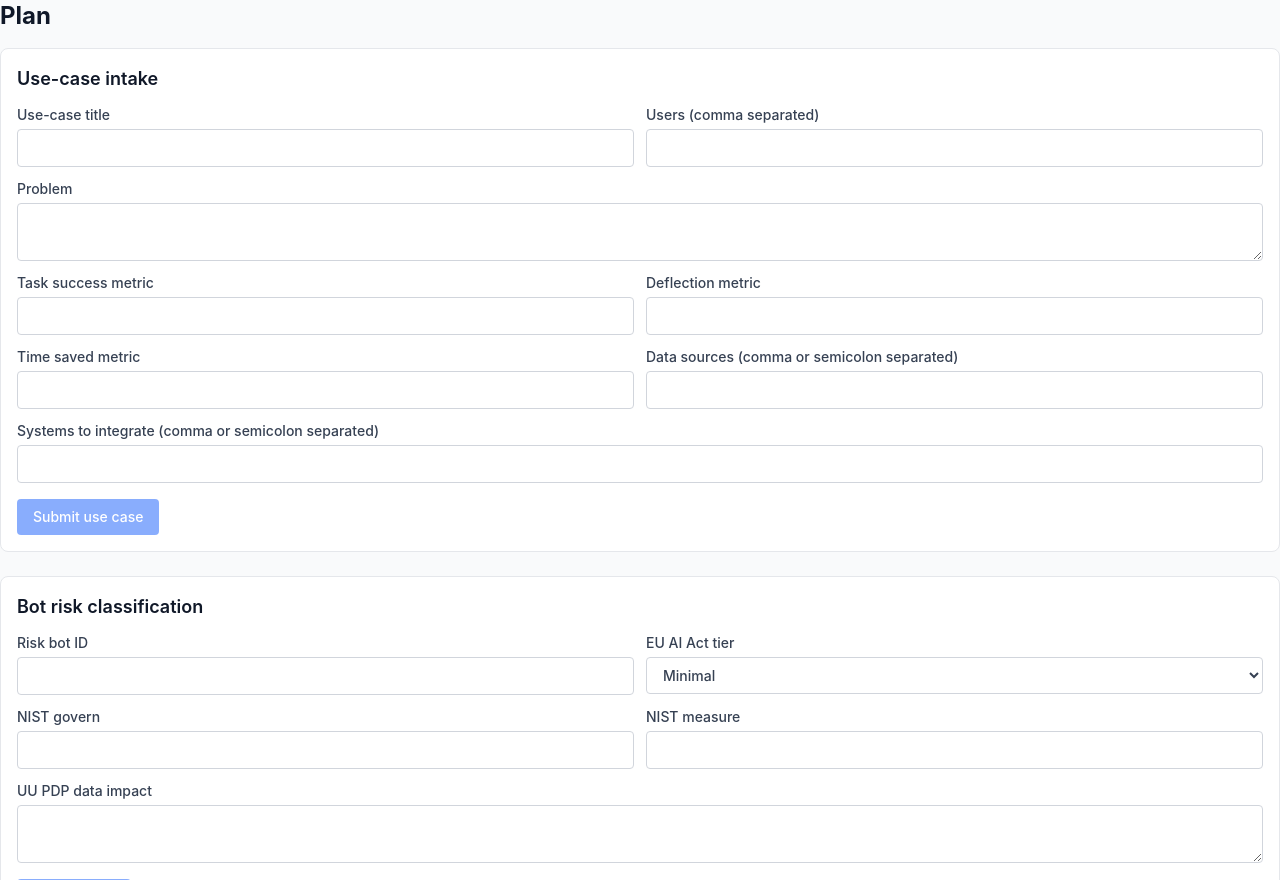
Test: PlanScreen › submits a bot risk classification with safe governance fields
In the field labelled "Risk bot ID": (326, 676) [17,657,634,695], type "11111111-1111-1111-1111-111111111111"
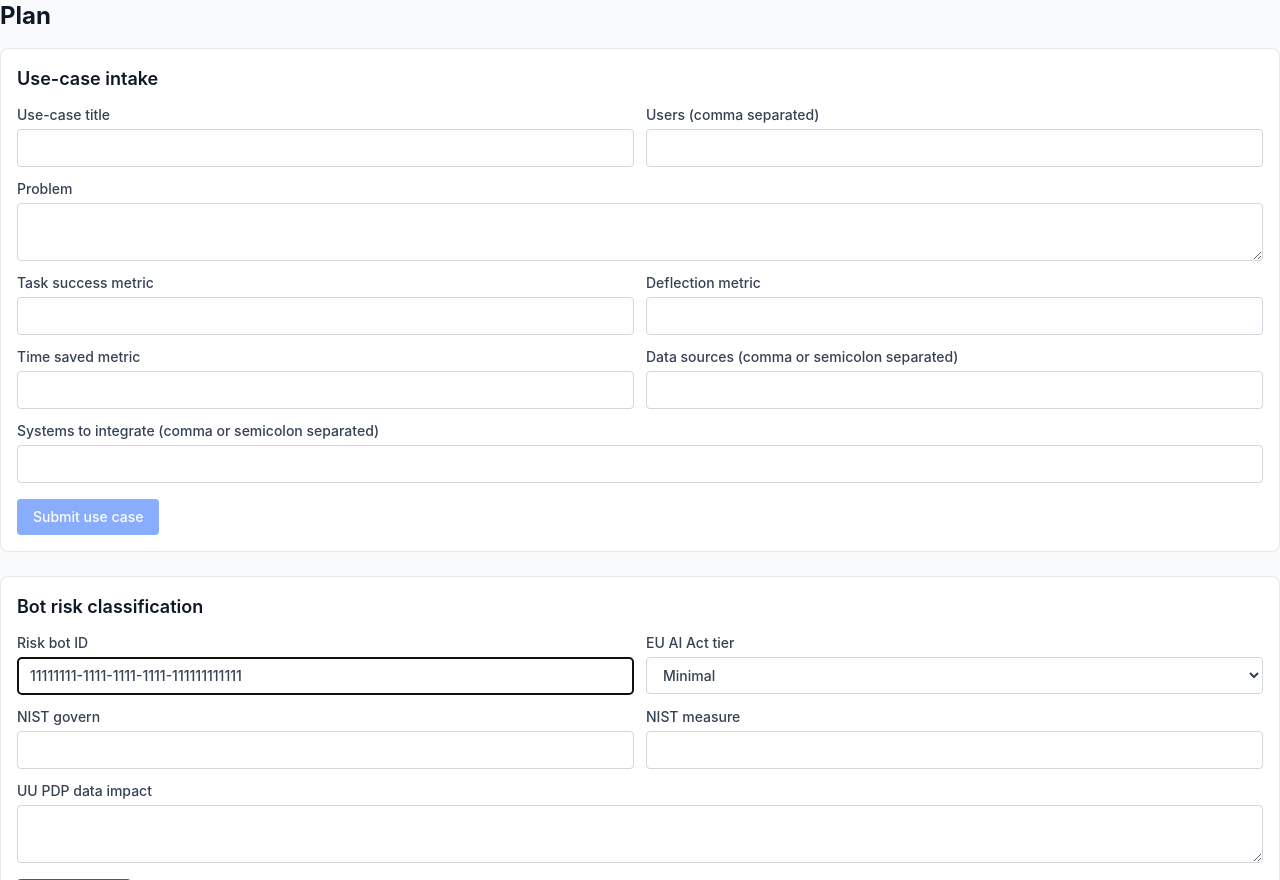
Select "High" in the dropdown labelled "EU AI Act tier": (954, 676) [646,657,1263,694]
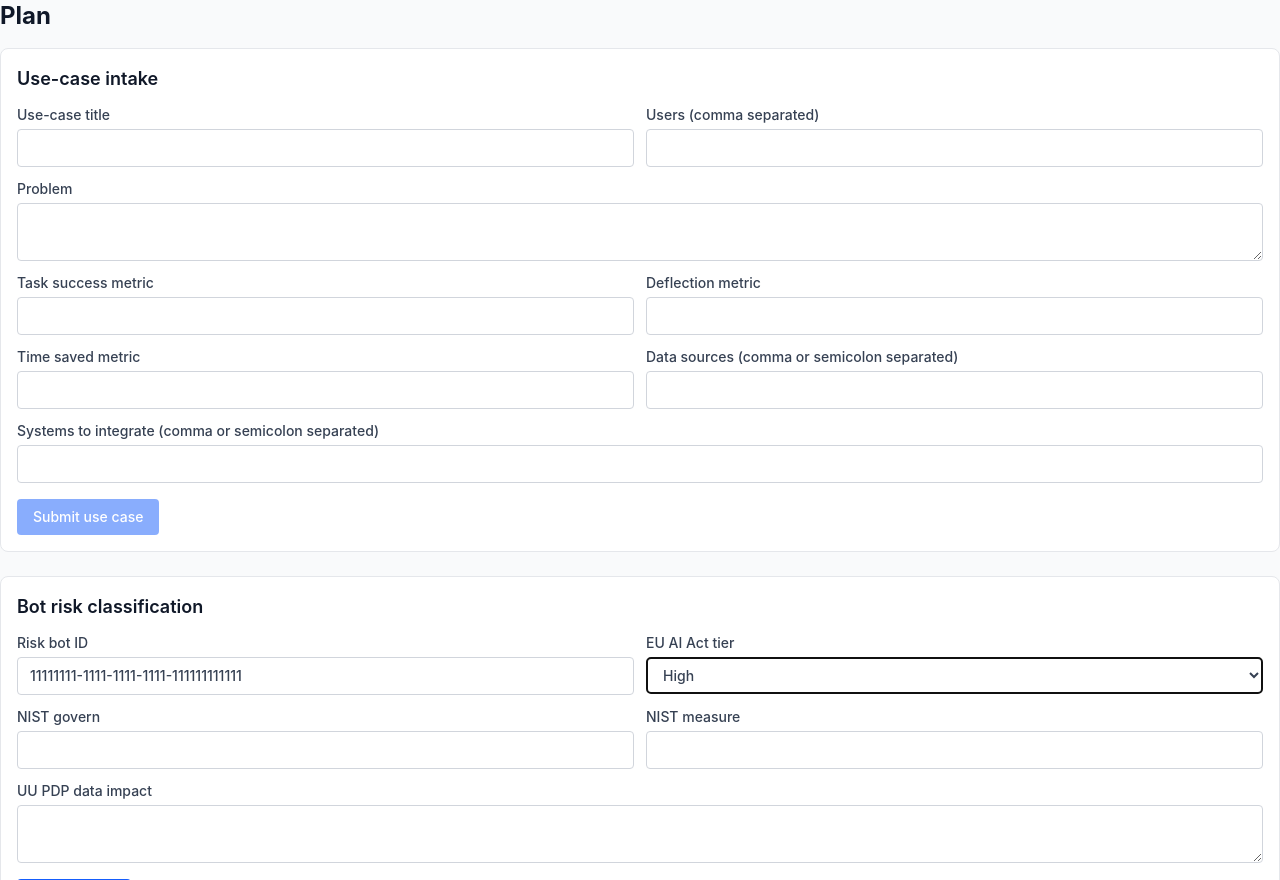
In the field labelled "NIST govern": (326, 750) [17,731,634,769], type "mapped"
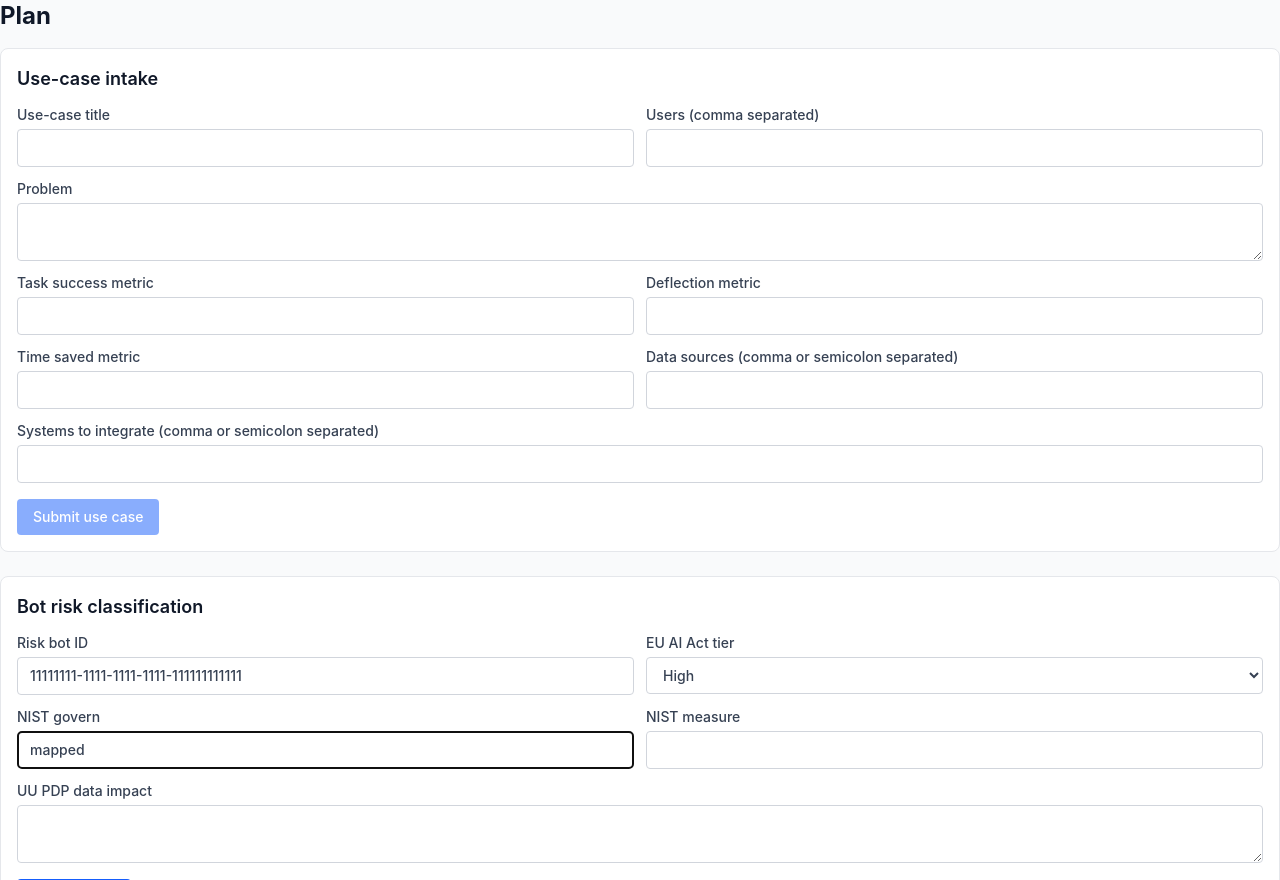
In the field labelled "NIST measure": (954, 750) [646,731,1263,769], type "required"
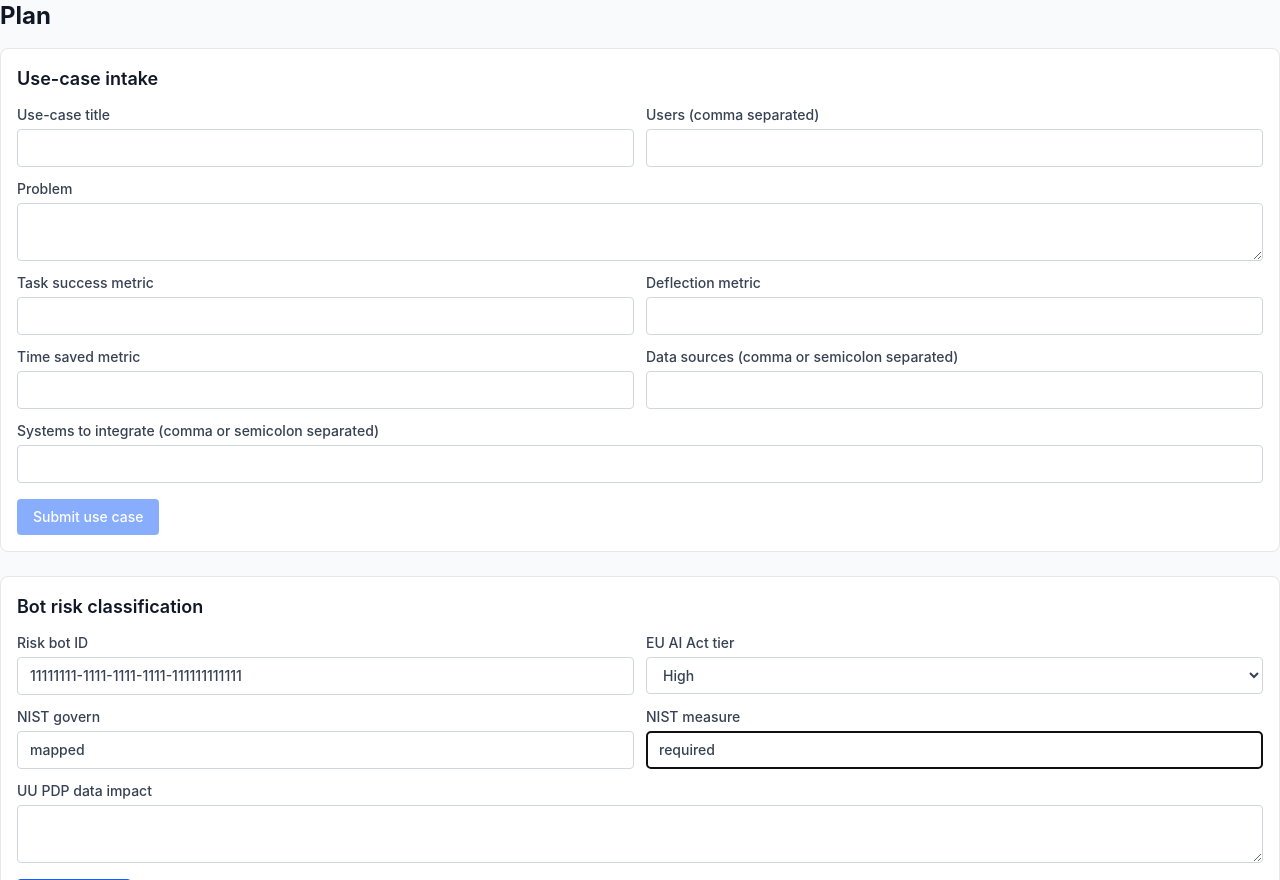
In the text box labelled "UU PDP data impact": (640, 834) [17,805,1263,863], type "Processes employee leave and identity data"
(page scrolled)
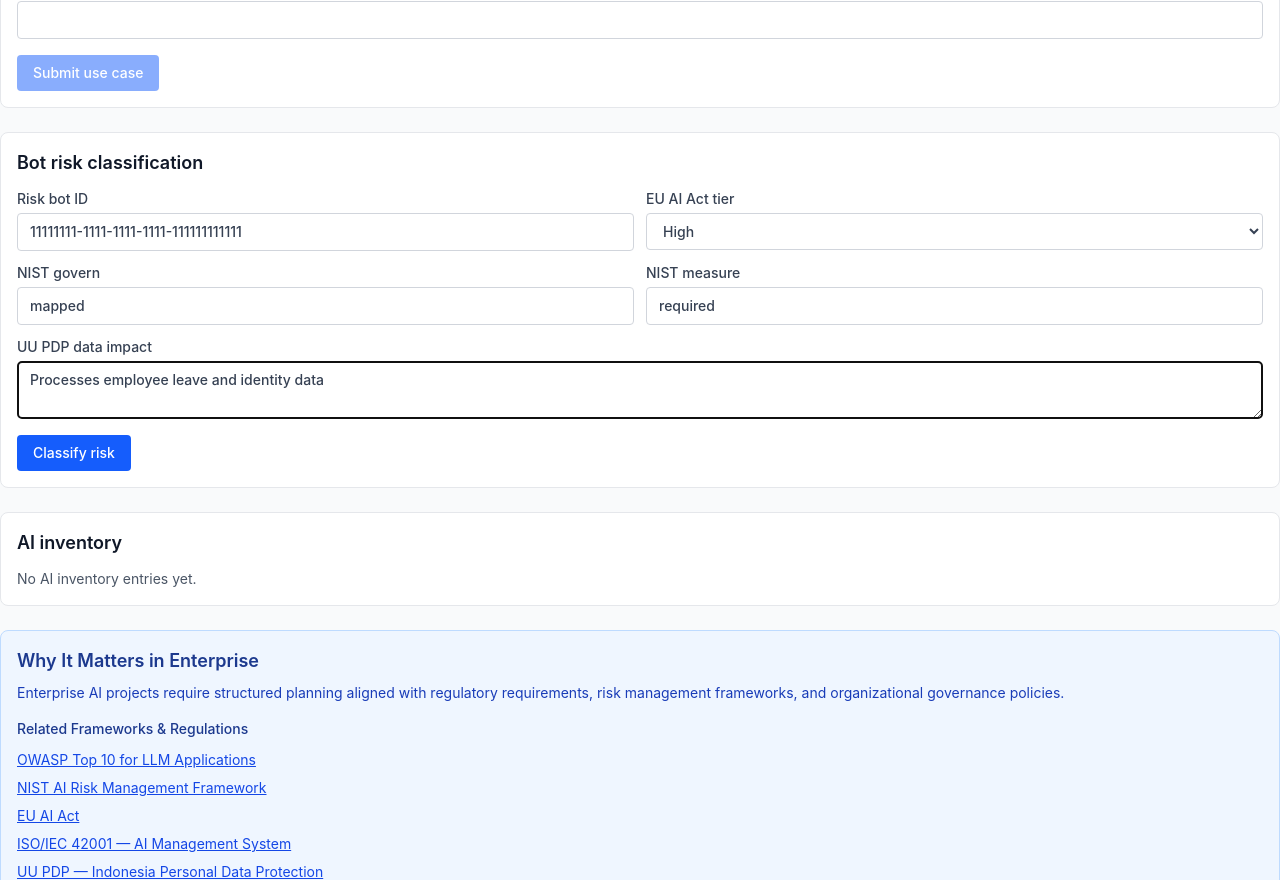
Click the button "Classify risk": (74, 453) [17,435,131,471]
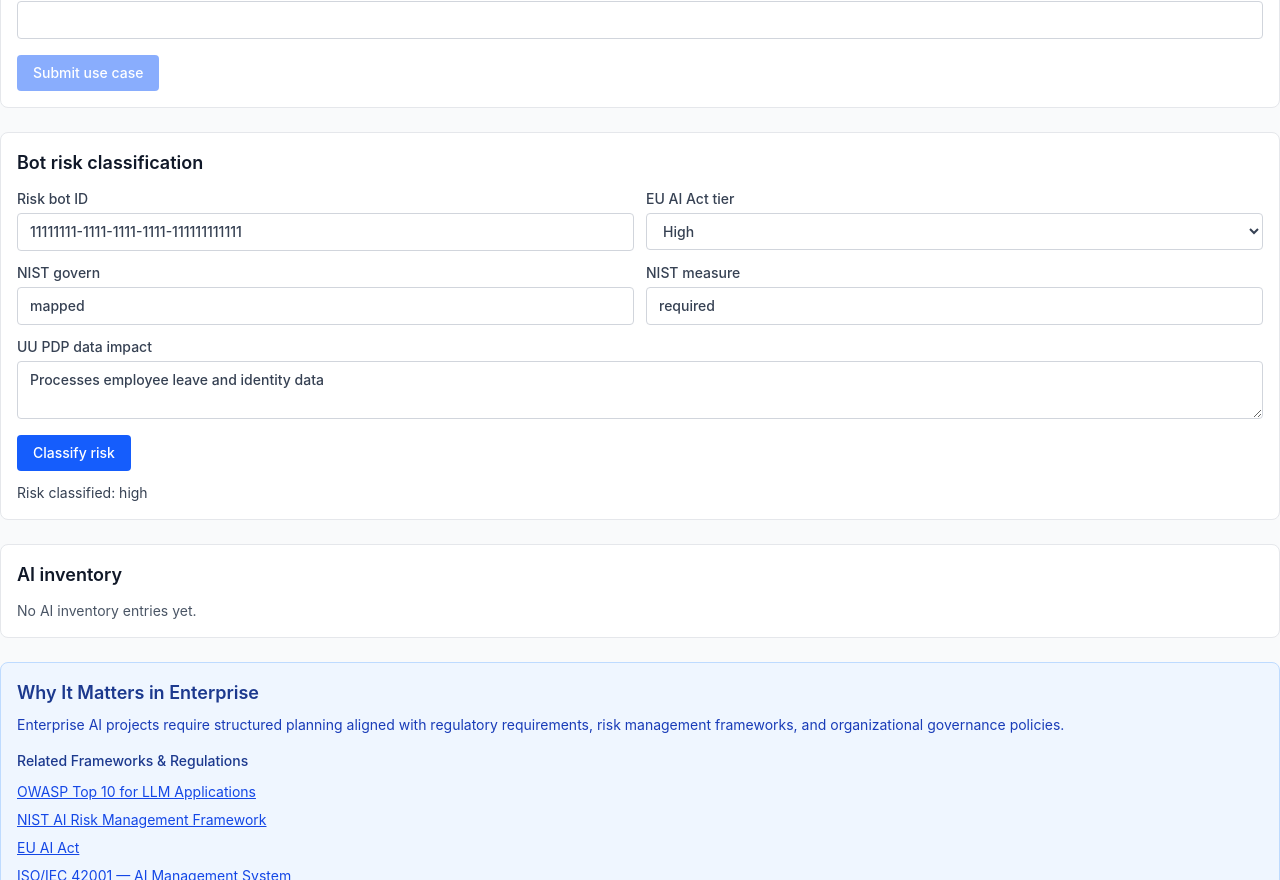
Now the message reads "Risk classified: high", box [17,484,148,501]
